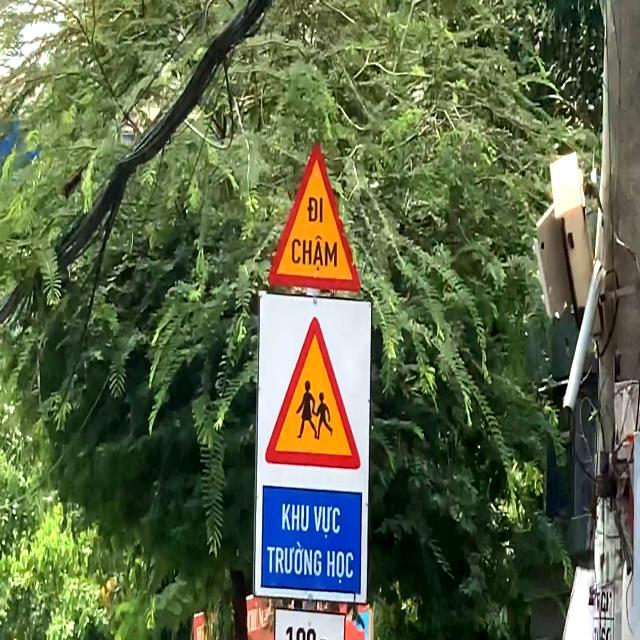Di cham: (266, 134, 364, 302)
Tre em: (260, 310, 364, 481)
